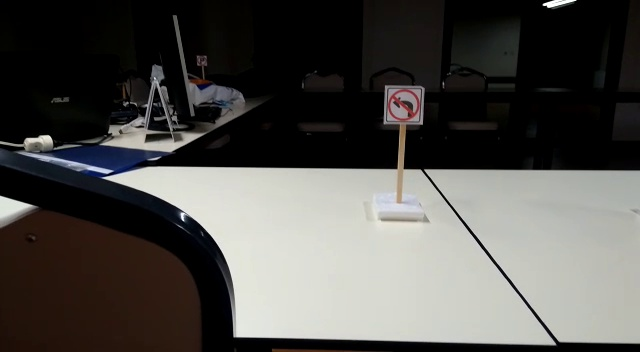sola_donulmez: (384, 83, 425, 126)
